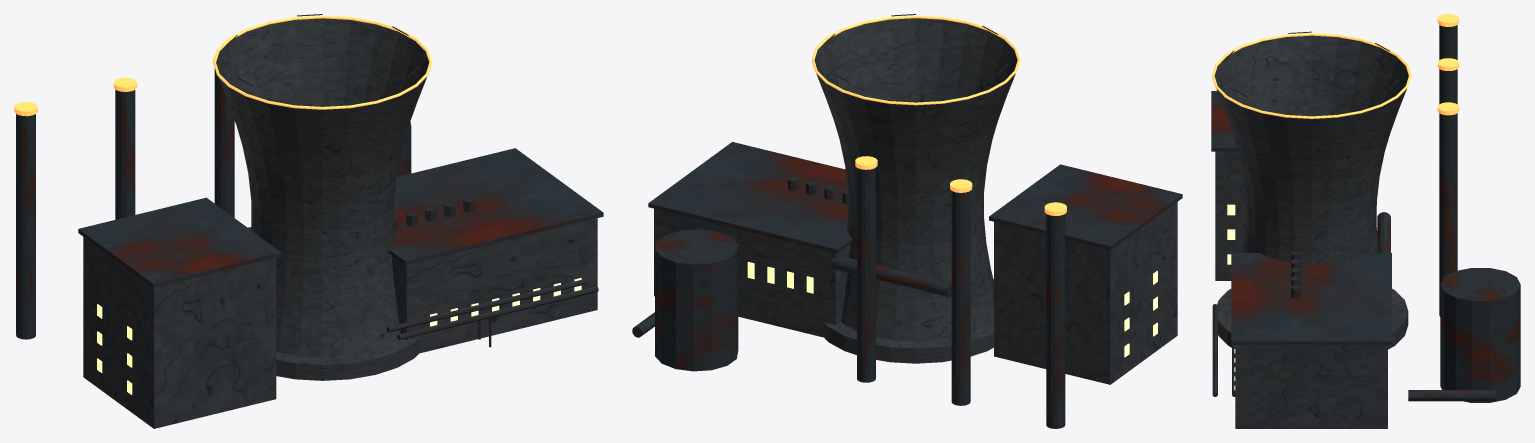
File: geothermal-plant-lod1.meshopt.glb
The picture shows the model from 3 angles, left to right: view 1: azimuth 30°, elevation 25°; view 2: azimuth 150°, elevation 25°; view 3: azimuth 270°, elevation 25°; orthographic projection. The views are drawn at different scales.
Parts seen in each view (by area): view 1: CinematicBatch_concrete, CinematicBatch_steel, CinematicBatch_amber, CinematicBatch_window; view 2: CinematicBatch_concrete, CinematicBatch_steel, CinematicBatch_amber, CinematicBatch_window; view 3: CinematicBatch_concrete, CinematicBatch_steel, CinematicBatch_amber, CinematicBatch_window.
Boxes of the visible parts, x1,y1,x2,y2 form: CinematicBatch_concrete: (83,18,597,428); CinematicBatch_steel: (16,14,603,347); CinematicBatch_amber: (14,15,432,116); CinematicBatch_window: (97,278,581,394); CinematicBatch_concrete: (654,18,1177,384); CinematicBatch_steel: (632,14,1182,428); CinematicBatch_amber: (811,15,1066,215); CinematicBatch_window: (747,262,1157,357); CinematicBatch_concrete: (1214,35,1408,428); CinematicBatch_steel: (1211,25,1520,402); CinematicBatch_amber: (1212,14,1459,118); CinematicBatch_window: (1227,204,1235,403).
Bounding box in the file's own units: 61.32 × 35.07 × 38.5.
4 materials, 2 textured.
